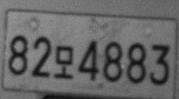2: (30, 35, 52, 77)
3: (149, 44, 171, 85)
4: (77, 40, 99, 81)
8: (126, 41, 147, 84), (102, 40, 122, 82), (8, 34, 28, 75)
모: (54, 45, 73, 78)
